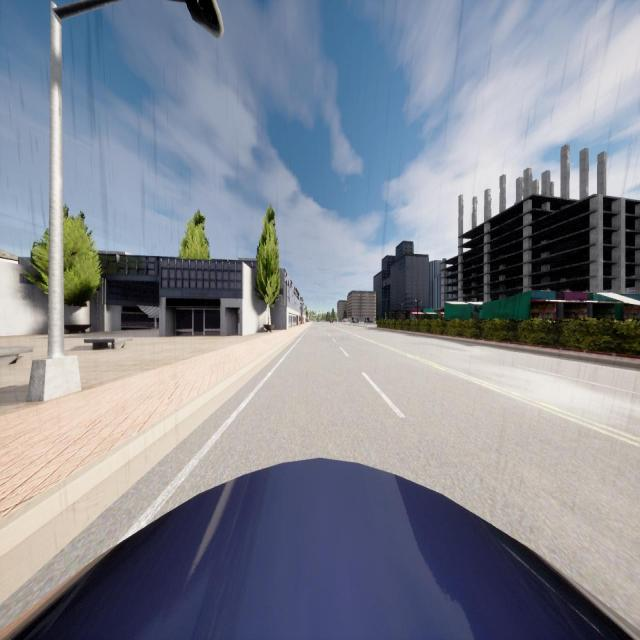Vehicle: (2, 456, 640, 640), (364, 318, 374, 324), (352, 319, 358, 323), (329, 320, 334, 323)
